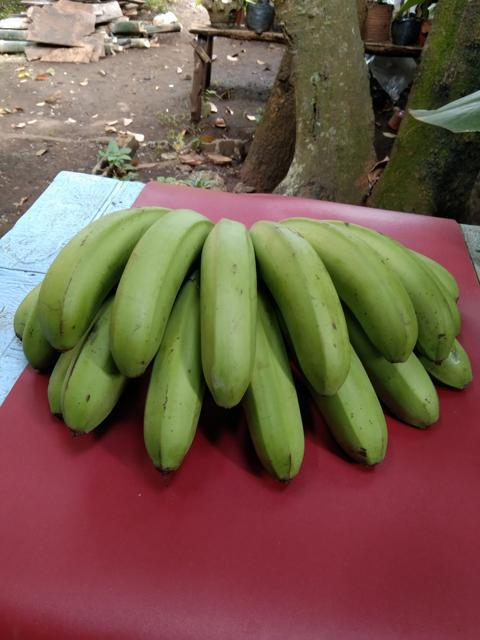freshunripe: (27, 191, 164, 353), (101, 198, 224, 374), (248, 206, 357, 402), (308, 212, 423, 363), (193, 209, 268, 398), (130, 323, 223, 475), (239, 339, 319, 480), (315, 349, 398, 472), (390, 261, 460, 368), (381, 337, 444, 425)
unripe: (48, 328, 133, 456)
